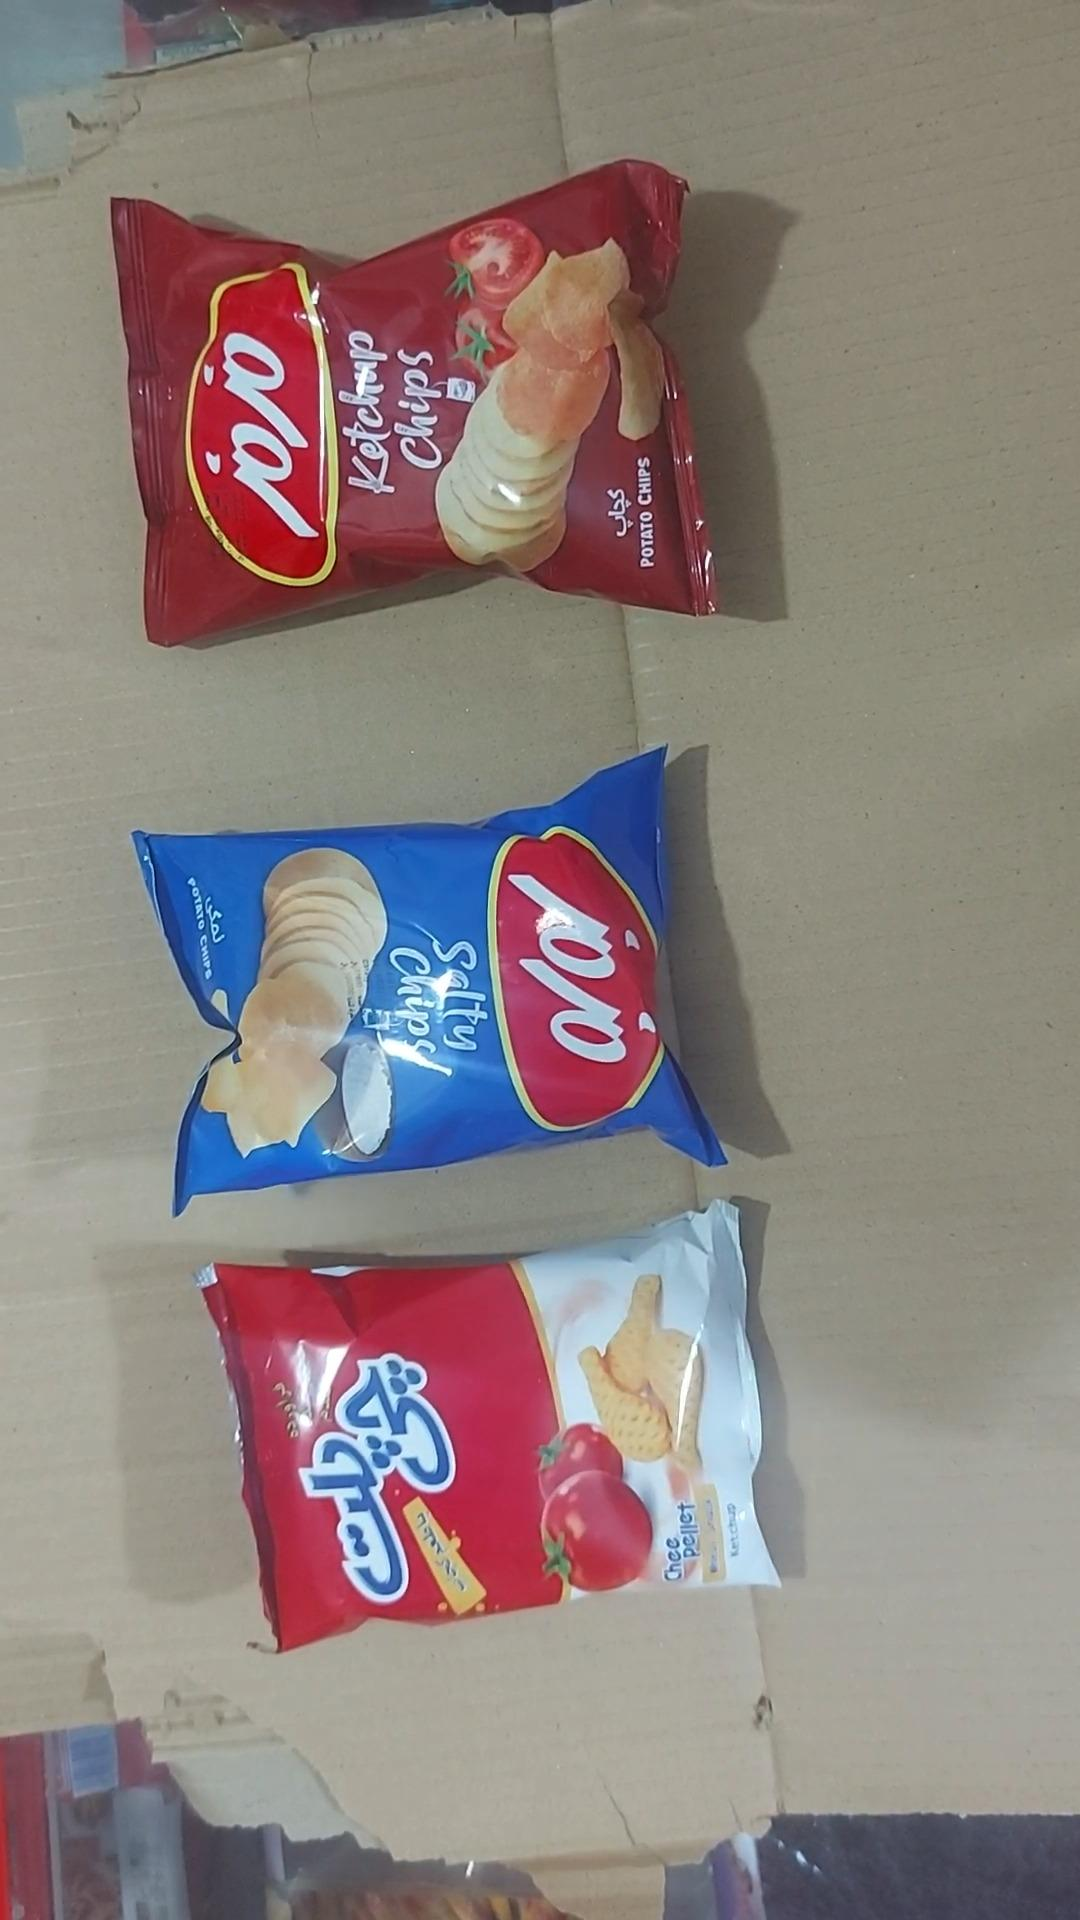Chee pellet ketchup: (194, 1201, 781, 1655)
Maz Maz ketchup chips: (109, 162, 717, 649)
Maz Maz salty chips: (131, 748, 728, 1218)
